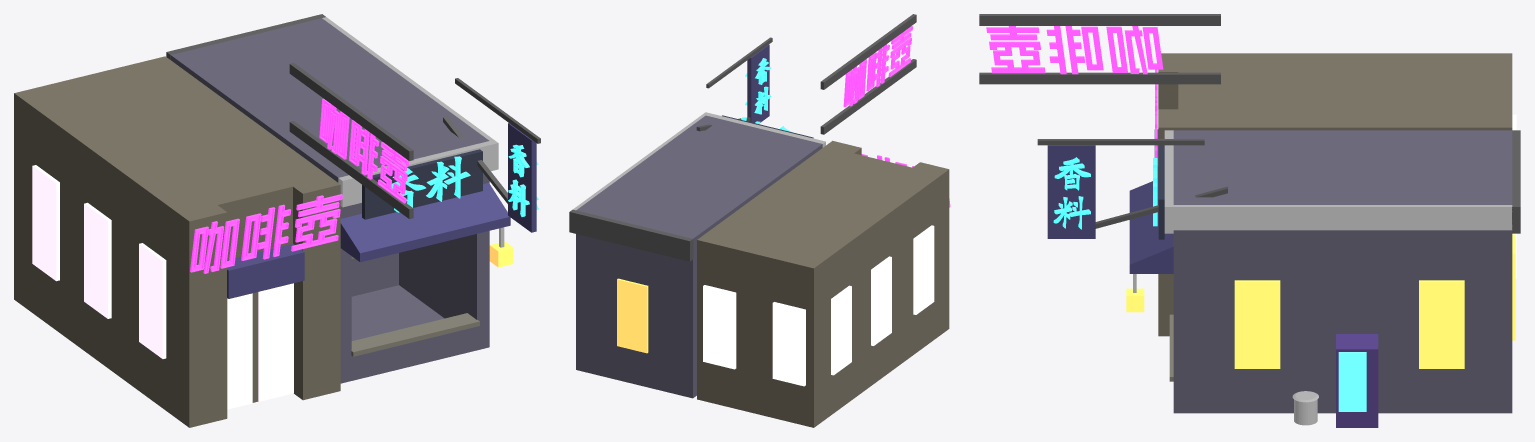
The picture shows the model from 3 angles, left to right: view 1: azimuth 30°, elevation 25°; view 2: azimuth 150°, elevation 25°; view 3: azimuth 270°, elevation 25°; orthographic projection. The views are drawn at different scales.
Parts seen in each view (by area): view 1: Cube.028, Cube.001, Cube.002, Text.001, Cube.019, Text.003, Cube.016, Cube.020, Cube.023, Cube.024, Cube.022, Cube.021 (+12 smaller); view 2: Cube.028, Cube.001, Cube.012, Cube.025, Cube.026, Text.003, Cube.013, Cube.022, Cube.023, Cube.024, Cube.030, Cube.027 (+5 smaller); view 3: Cube.001, Cube.028, Cube.010, Text.003, Cube.008, Cube.009, Cube.030, Cube.029, Cube.002, Cube.027, Cube.014, Cube.015 (+7 smaller).
Boxes of the visible parts, x1,y1,x2,y2 form: Cube.028: (14, 56, 340, 427); Cube.001: (171, 18, 489, 383); Cube.002: (340, 183, 510, 262); Text.001: (190, 194, 342, 273); Cube.019: (258, 283, 293, 401); Text.003: (319, 98, 408, 203); Cube.016: (362, 149, 482, 219); Cube.020: (227, 293, 252, 409); Cube.023: (32, 165, 59, 281); Cube.024: (84, 202, 111, 318); Cube.022: (139, 243, 166, 358); Cube.021: (227, 243, 304, 298); Cube.028: (697, 140, 949, 427); Cube.001: (576, 115, 822, 398); Cube.012: (569, 209, 693, 261); Cube.025: (772, 302, 805, 386); Cube.026: (703, 285, 736, 369); Text.003: (843, 26, 912, 107); Cube.013: (617, 278, 648, 353); Cube.022: (913, 225, 934, 314); Cube.023: (831, 285, 851, 375); Cube.024: (871, 256, 891, 345); Cube.030: (747, 44, 769, 122); Cube.027: (820, 14, 916, 89); Cube.001: (1173, 130, 1512, 413); Cube.028: (1158, 53, 1512, 336); Cube.010: (1173, 205, 1512, 230); Text.003: (986, 26, 1163, 74); Cube.008: (1234, 280, 1280, 368); Cube.009: (1419, 280, 1464, 368); Cube.030: (1047, 145, 1095, 238); Cube.029: (979, 72, 1220, 84); Cube.002: (1129, 179, 1173, 273); Cube.027: (979, 14, 1220, 25); Cube.014: (1336, 334, 1378, 427); Cube.015: (1338, 352, 1366, 411).
Size of the model in its own units: 14.16 by 12.13 by 19.06.
